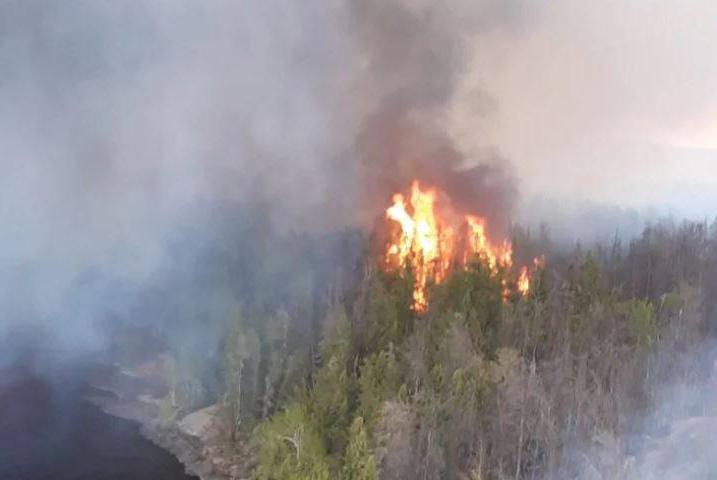fire: (377, 184, 537, 305)
